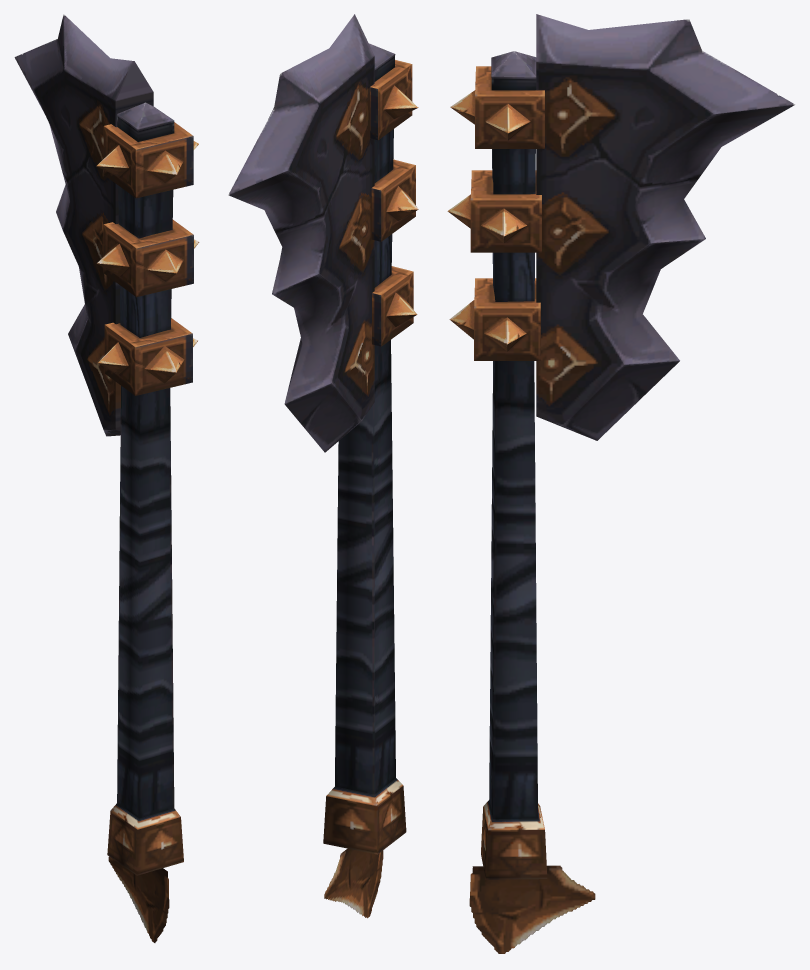
The model's file is polearm_03_02.fbx.
3 views of the same model, side by side, from view 1: azimuth 30°, elevation 25°; view 2: azimuth 150°, elevation 25°; view 3: azimuth 270°, elevation 25° (orthographic). The views are drawn at different scales.
Parts seen in each view (by area): view 1: polearm_03_02; view 2: polearm_03_02; view 3: polearm_03_02.
Part boxes in pixels (x1,y1,x2,y2): polearm_03_02: (14, 14, 199, 942); polearm_03_02: (228, 14, 418, 918); polearm_03_02: (447, 14, 795, 953).
Size of the model in its own units: 0.3431 by 2.83 by 0.9497.
